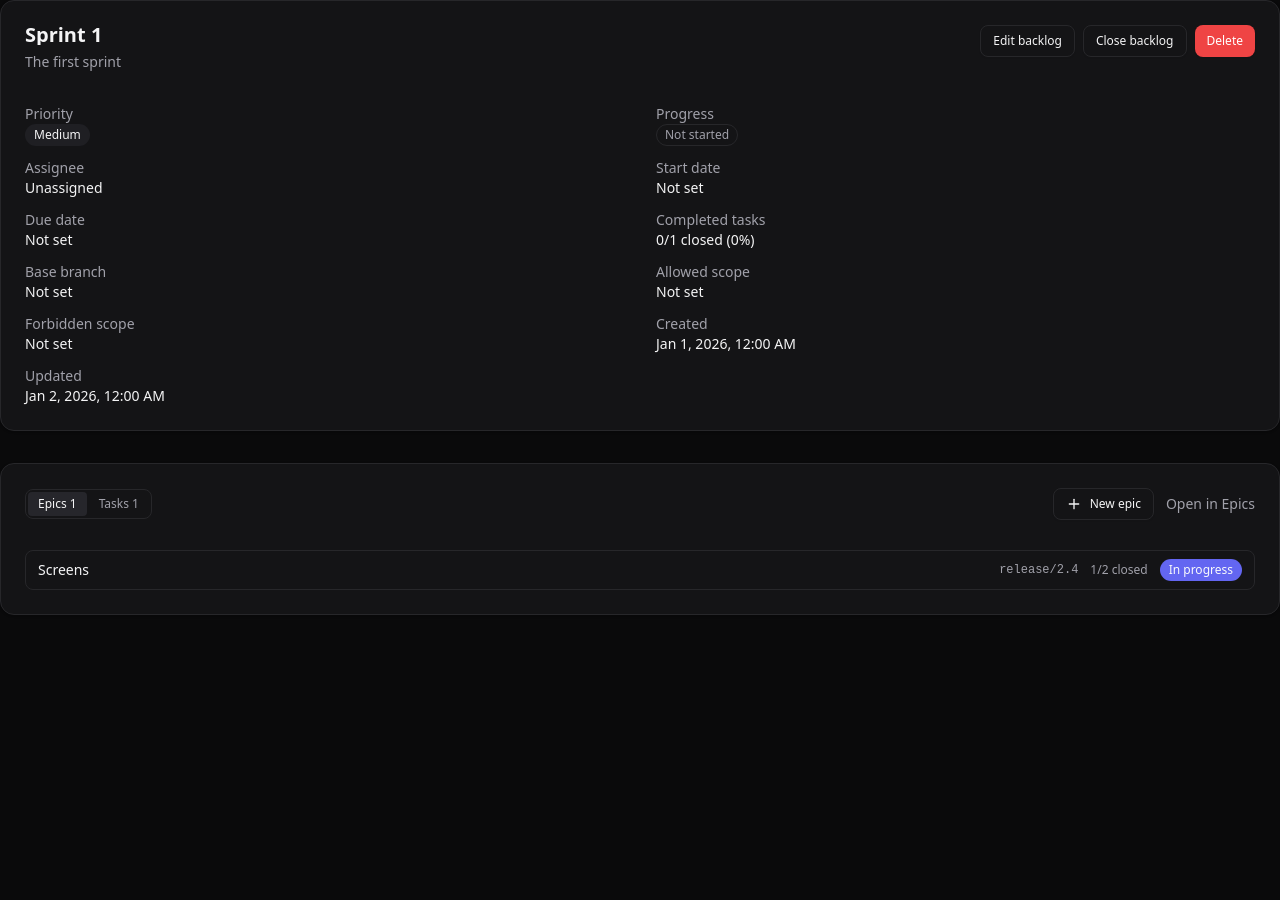
Test: BacklogDetail › the Epics / Tasks tabs › switches the list, the action and the handoff link together
Check: the button "New epic" is shown, box x1=1053 y1=488 x2=1154 y2=520
Click the tab "Tasks 1": {"x": 119, "y": 504} x1=89 y1=492 x2=149 y2=516
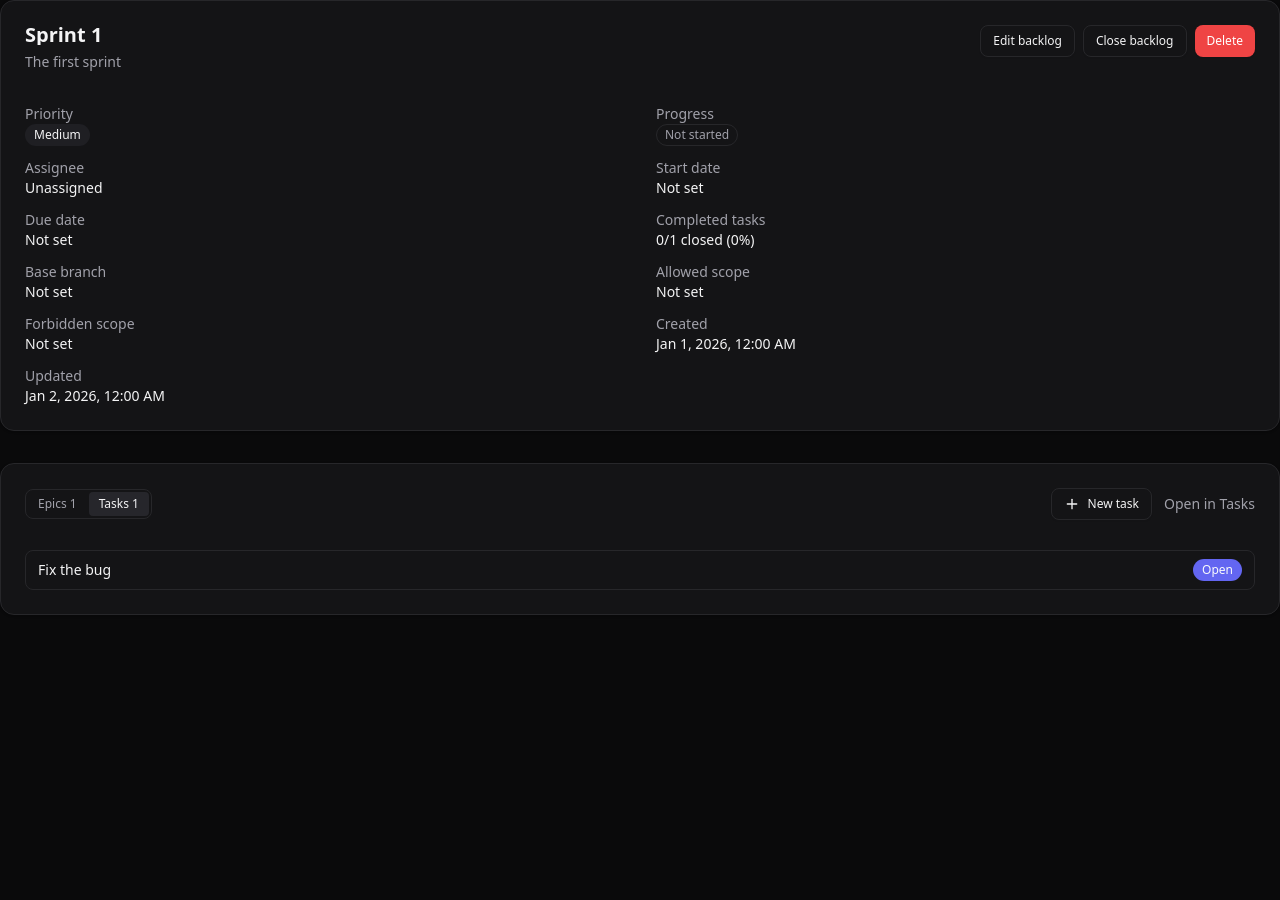
Check: the link "Fix the bug Open" is shown, box x1=25 y1=550 x2=1255 y2=590
Check: the link "Screens" is gone
Check: the button "New epic" is gone
